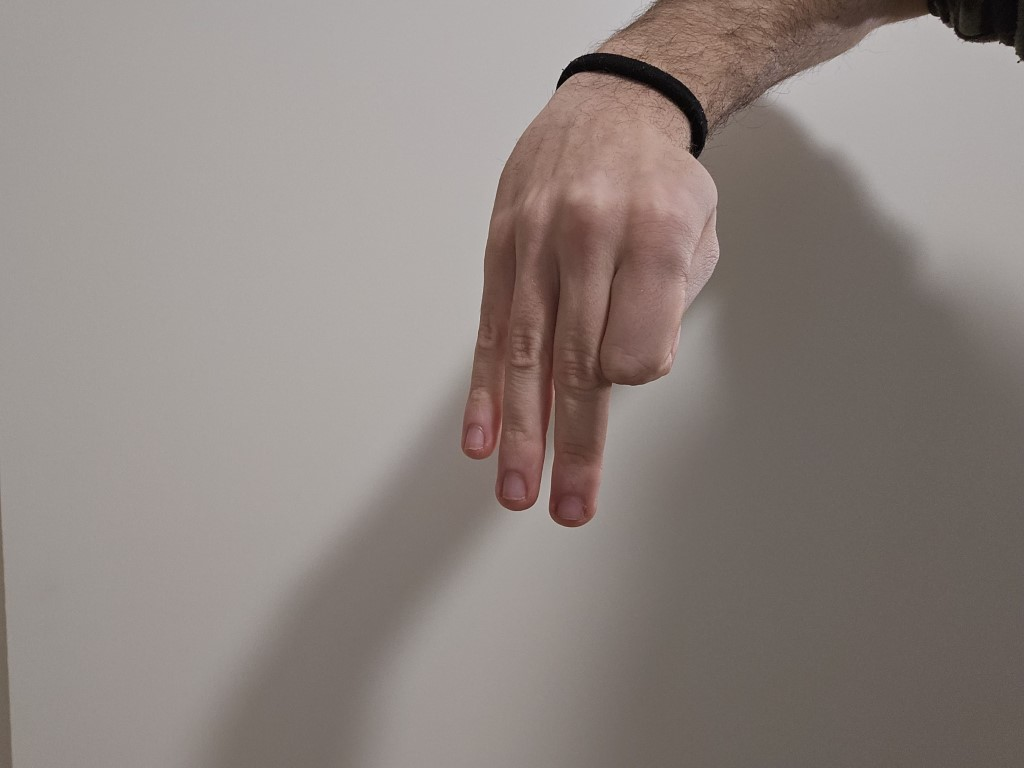m: (450, 95, 737, 540)
